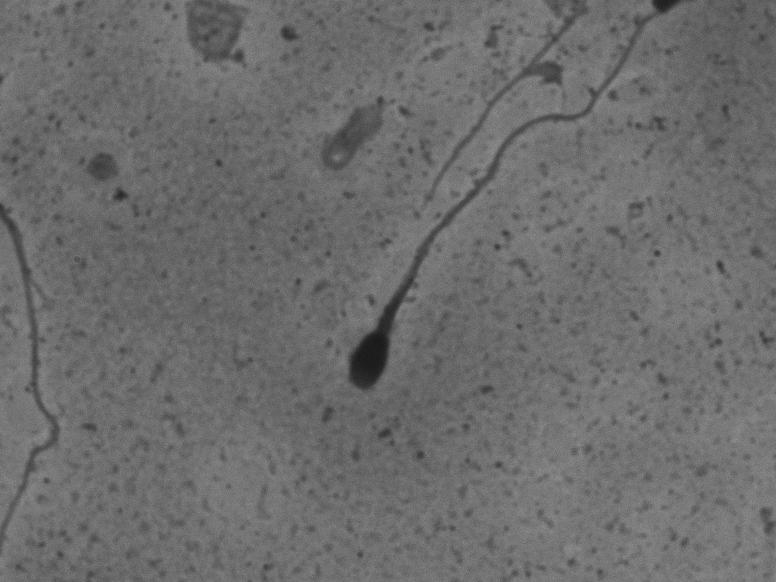Normal: (325, 10, 663, 403)
